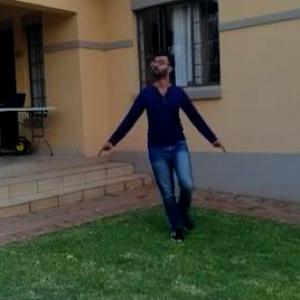land: (114, 66, 212, 221)
